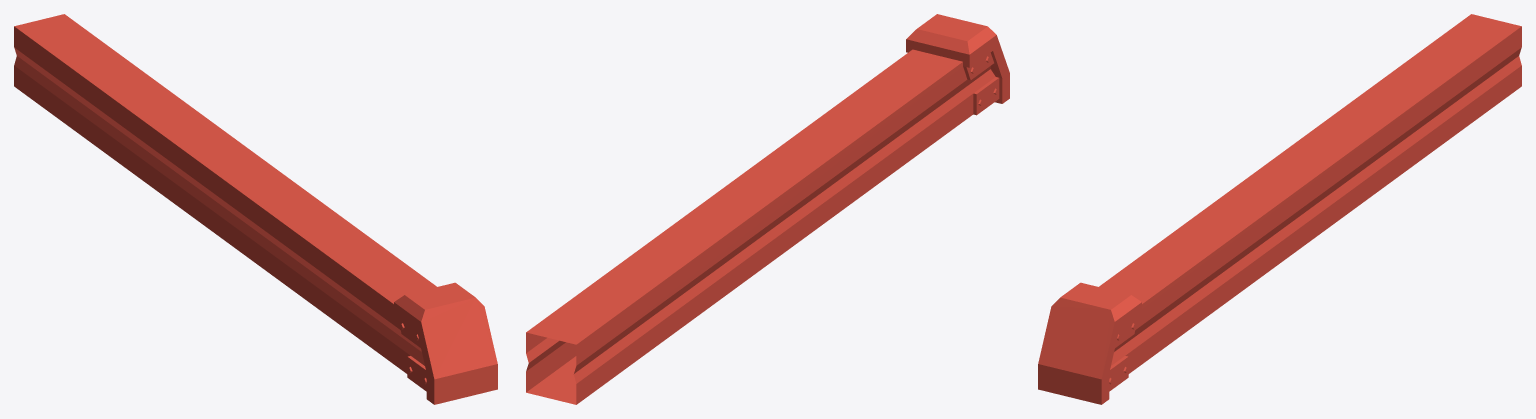
The model's file is SM_Telehandler_Arm_D.fbx.
3 views of the same model, side by side, from view 1: azimuth 30°, elevation 25°; view 2: azimuth 150°, elevation 25°; view 3: azimuth 330°, elevation 25° (orthographic).
Visible parts, largest first — view 1: SM_Telehandler_Arm_D; view 2: SM_Telehandler_Arm_D; view 3: SM_Telehandler_Arm_D.
Part boxes in pixels (left/top/right/bottom): SM_Telehandler_Arm_D: left=14, top=14, right=497, bottom=404; SM_Telehandler_Arm_D: left=526, top=14, right=1009, bottom=404; SM_Telehandler_Arm_D: left=1038, top=14, right=1521, bottom=404.
Size of the model in its own units: 404 by 34.67 by 42.86.
